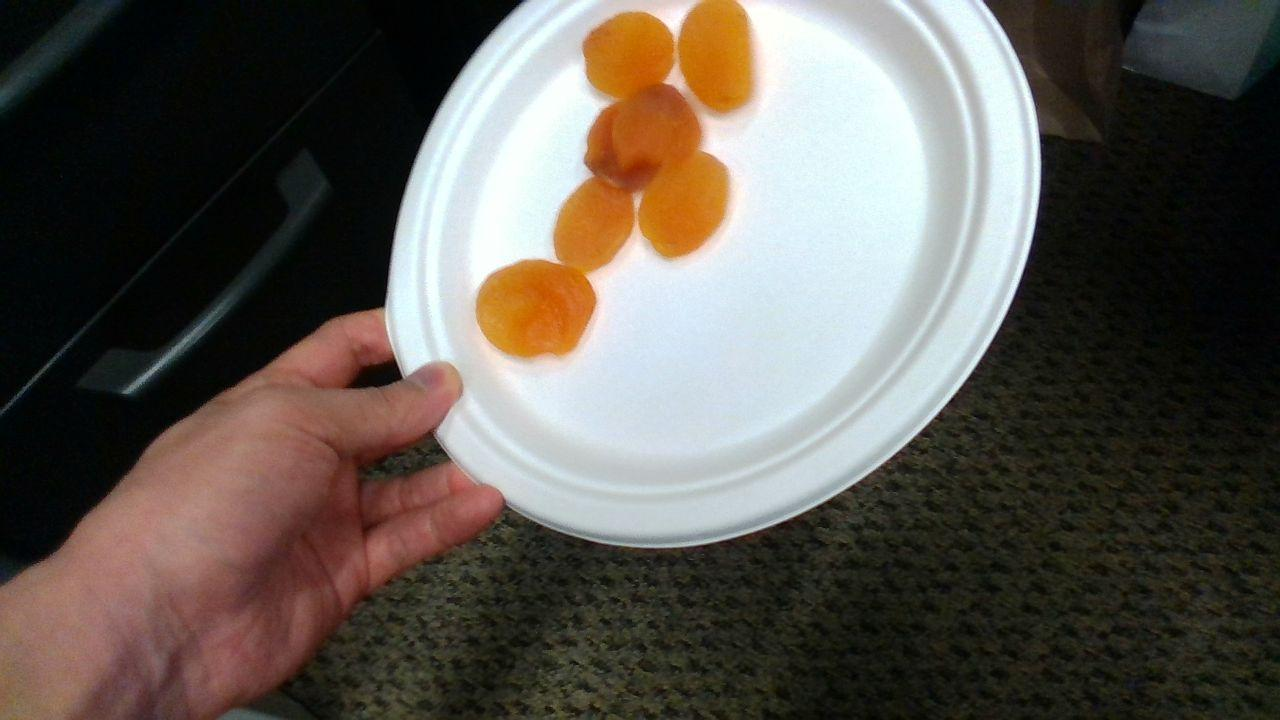apricot: (582, 83, 702, 191), (476, 261, 596, 356), (640, 149, 729, 259), (582, 12, 676, 98), (680, 1, 752, 112), (554, 178, 635, 269)
plate: (383, 1, 1042, 550)
